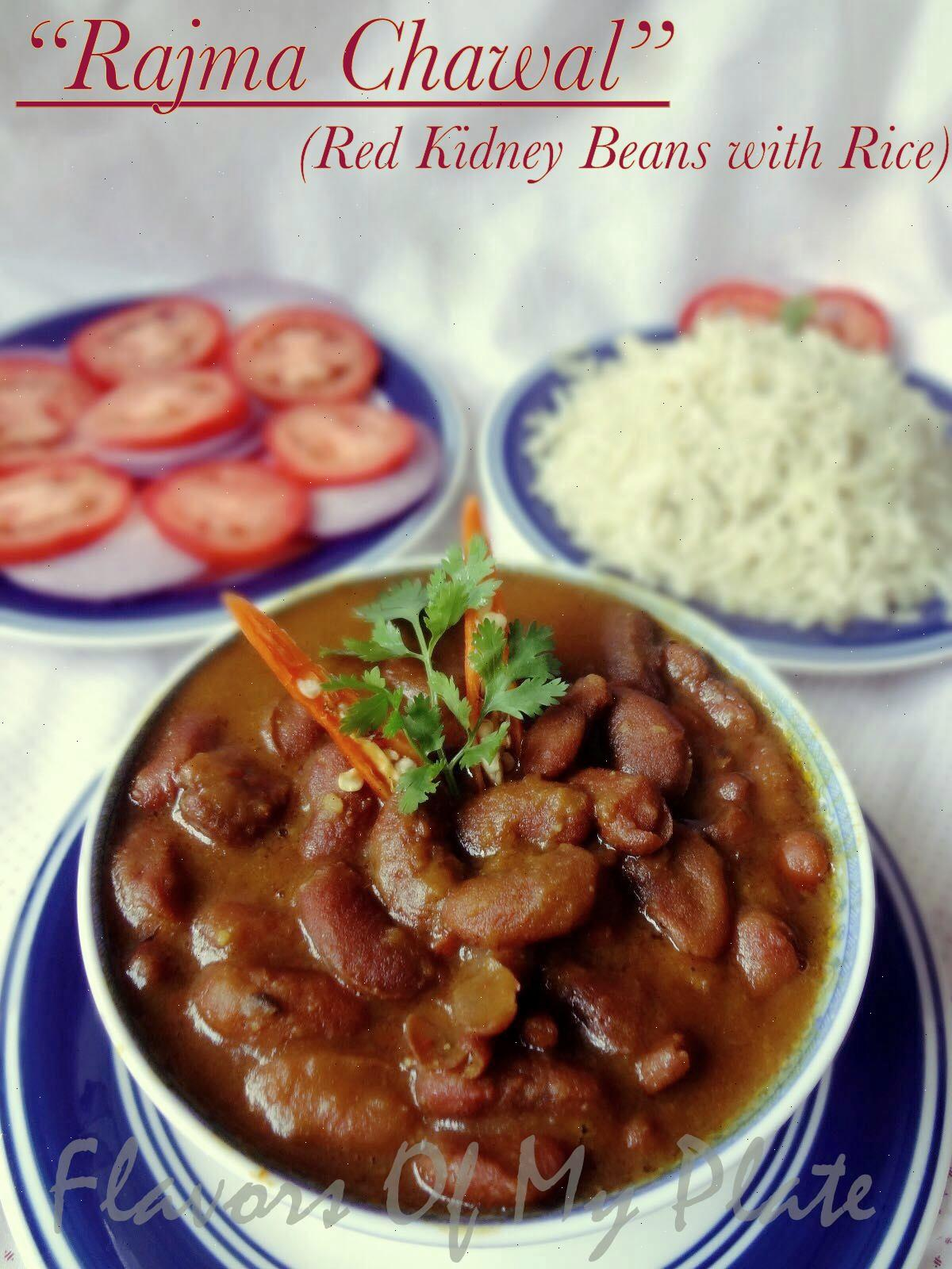rajma: (135, 599, 829, 1202)
